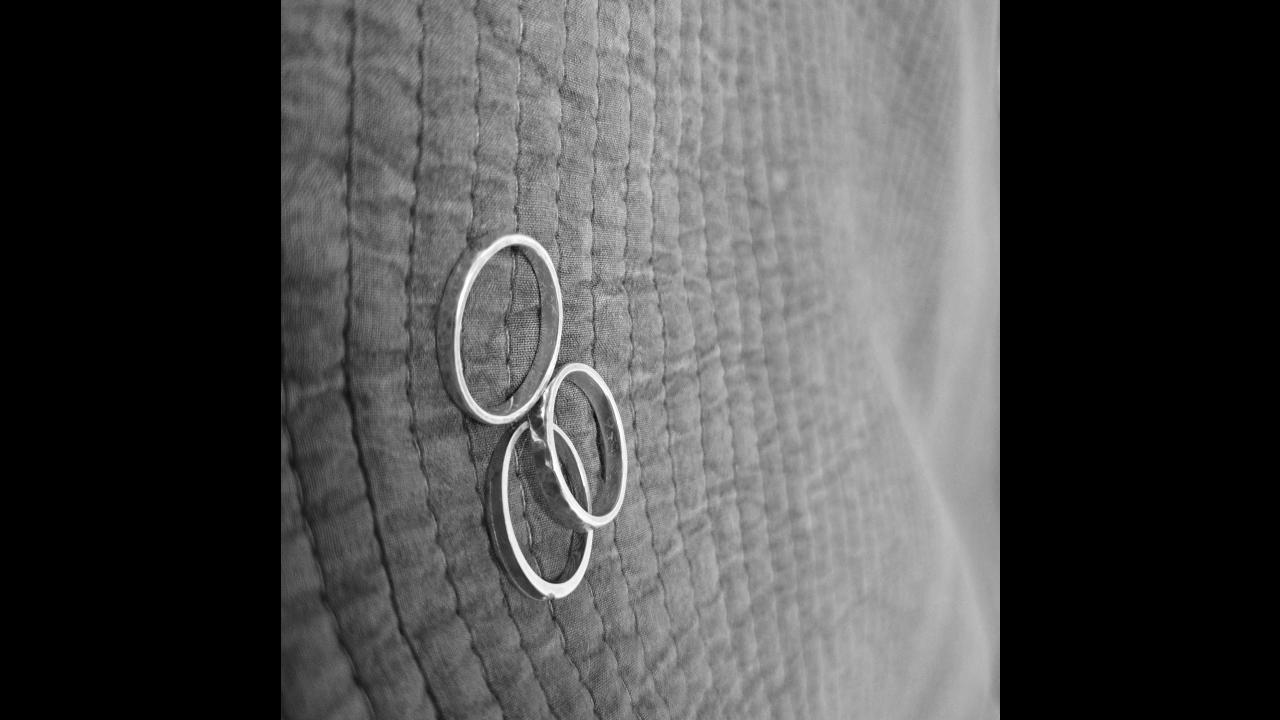ring: (436, 229, 562, 426), (484, 413, 594, 606), (526, 360, 628, 536)
